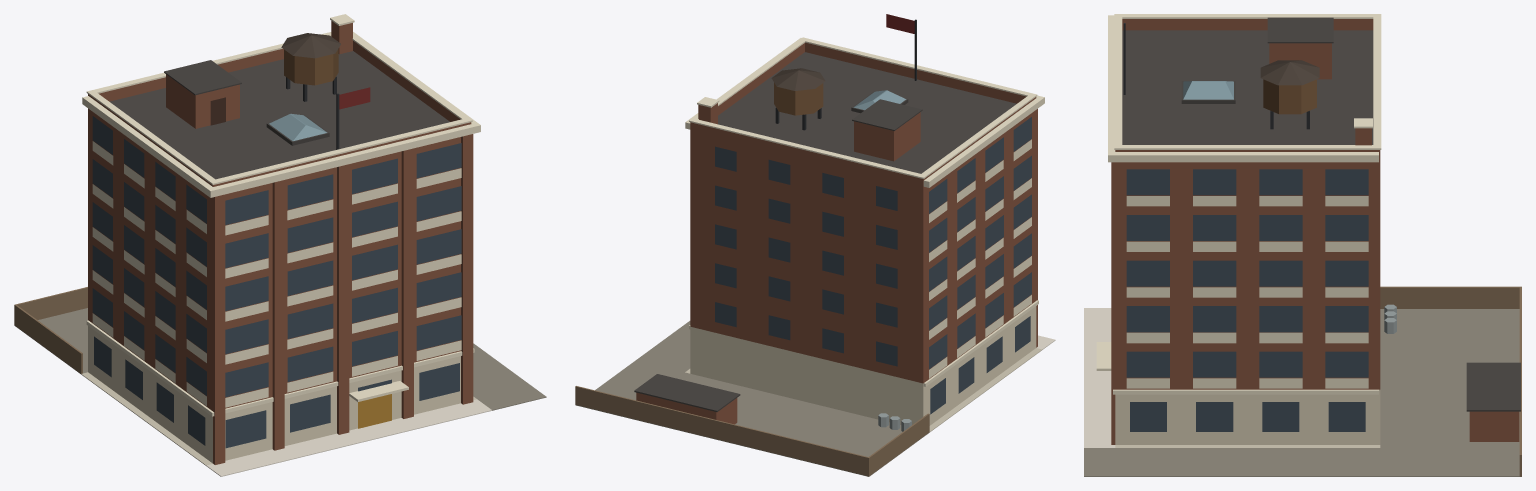
Rendered from office_t.glb.
The picture shows the model from 3 angles, left to right: view 1: azimuth 30°, elevation 25°; view 2: azimuth 150°, elevation 25°; view 3: azimuth 270°, elevation 25°; orthographic projection. The views are drawn at different scales.
Visible parts, largest first — view 1: office_t; view 2: office_t; view 3: office_t.
Part boxes in pixels (x1,y1,x2,y2): office_t: [14, 14, 546, 476]; office_t: [575, 14, 1055, 476]; office_t: [1084, 14, 1521, 476].
Bounding box in the file's own units: 20 × 19.71 × 22.
